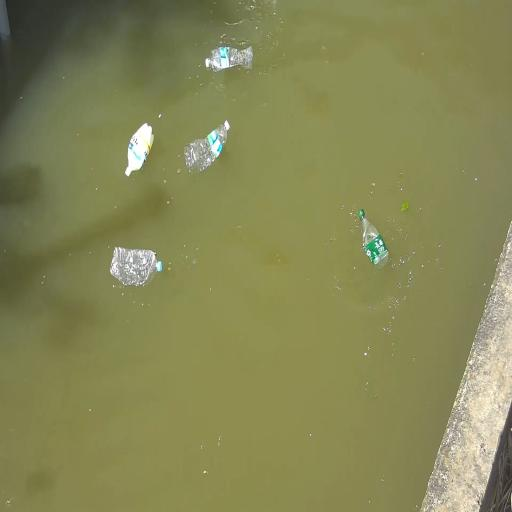plastic: (184, 118, 230, 176), (110, 246, 163, 289), (358, 206, 392, 271), (125, 122, 155, 177), (205, 44, 254, 76)
